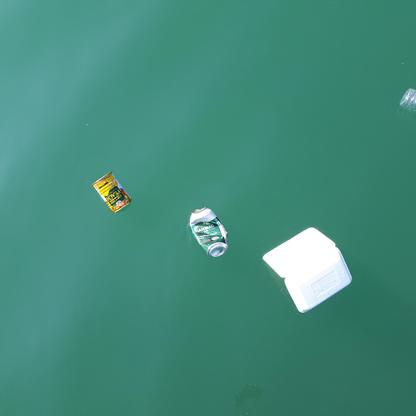can: (191, 206, 230, 257), (92, 171, 133, 212)
foam: (263, 224, 353, 309)
plastic bottle: (397, 87, 416, 111)
